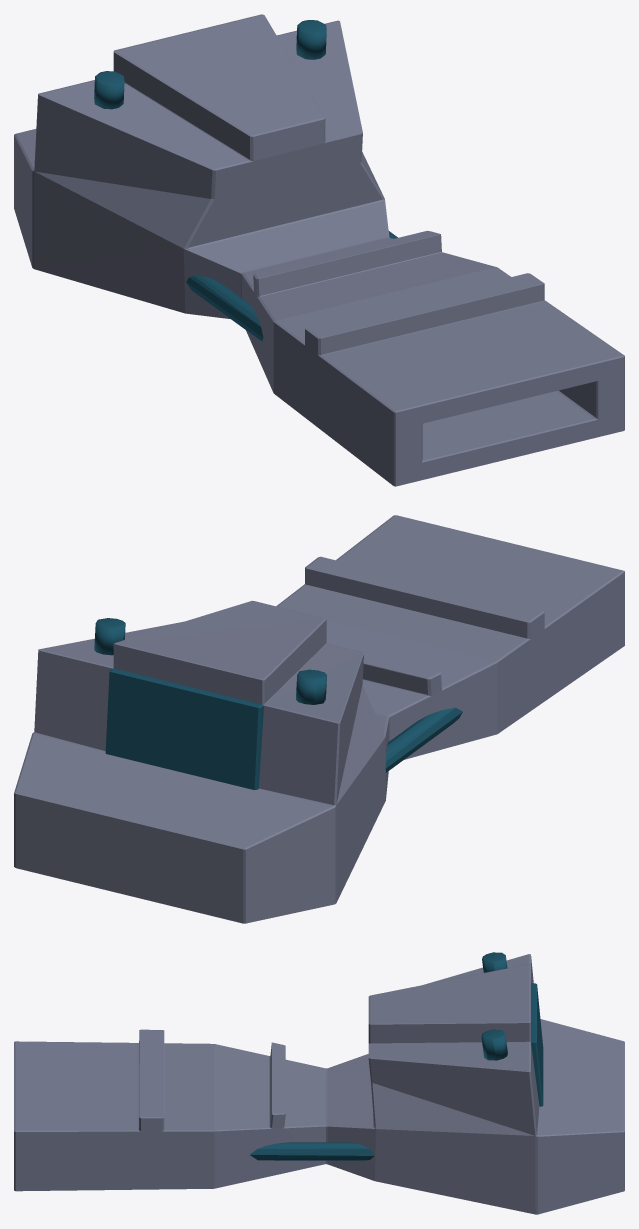
Rendered from PizzaGun.fbx.
The picture shows the model from 3 angles, top to bottom: view 1: azimuth 30°, elevation 25°; view 2: azimuth 150°, elevation 25°; view 3: azimuth 270°, elevation 25°; orthographic projection. The views are drawn at different scales.
Parts seen in each view (by area): view 1: PizzaGun; view 2: PizzaGun; view 3: PizzaGun.
Boxes of the visible parts, x1=… form: PizzaGun: x1=14, y1=14, x2=624, y2=486; PizzaGun: x1=14, y1=515, x2=624, y2=923; PizzaGun: x1=14, y1=952, x2=624, y2=1214.
Bounding box in the file's own units: 95.9 × 61.4 × 209.
